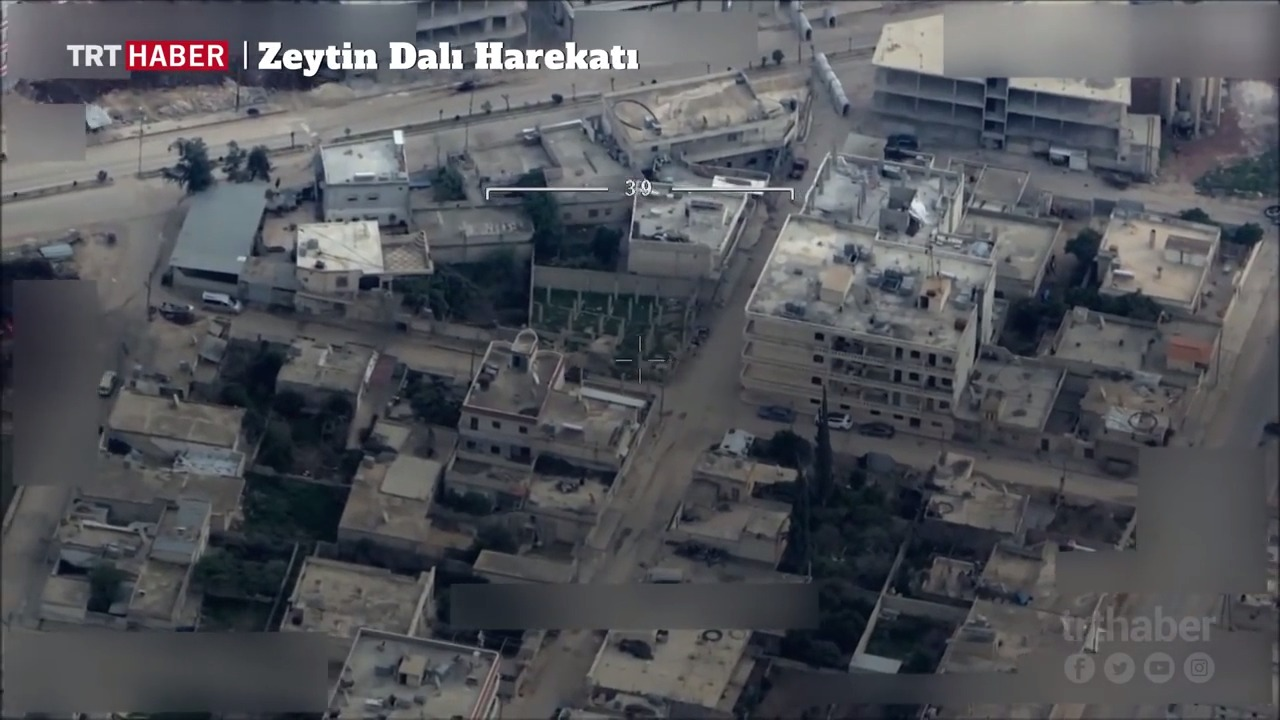arac: (847, 409, 909, 436), (192, 284, 249, 311), (91, 355, 128, 396), (812, 407, 858, 431), (751, 404, 800, 422)
